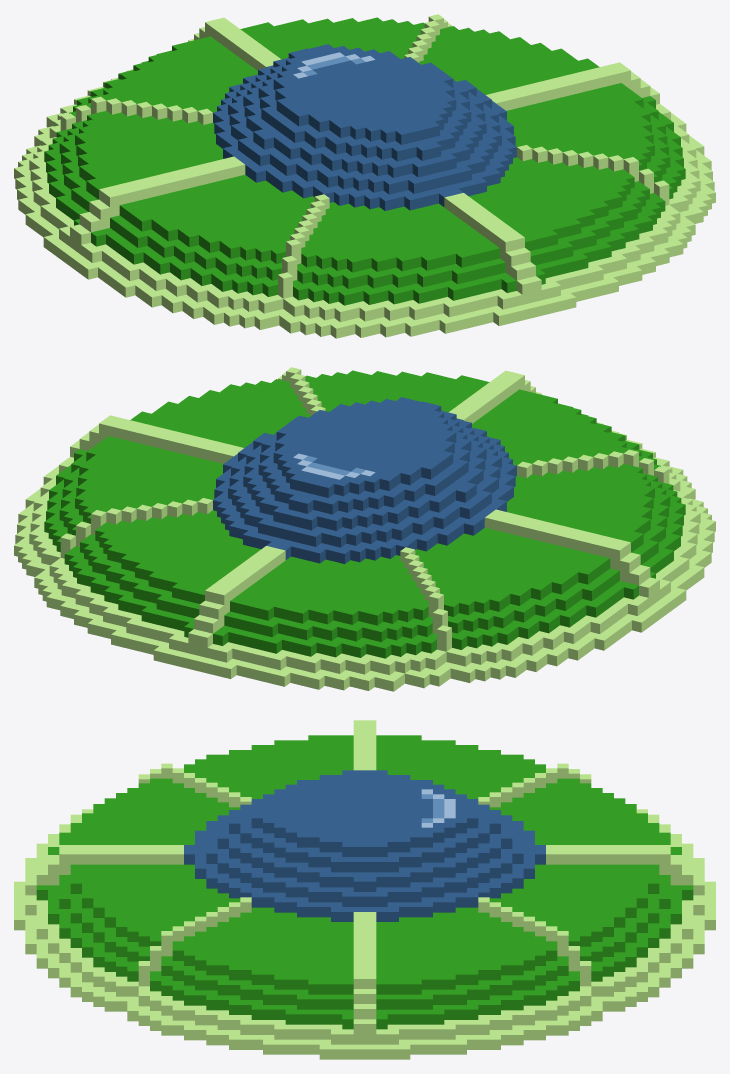
The model's file is Oculus.fbx.
The picture shows the model from 3 angles, top to bottom: view 1: azimuth 30°, elevation 25°; view 2: azimuth 150°, elevation 25°; view 3: azimuth 270°, elevation 25°; orthographic projection.
Parts seen in each view (by area): view 1: Oculus; view 2: Oculus; view 3: Oculus.
Boxes of the visible parts, x1,y1,x2,y2 form: Oculus: [14, 14, 715, 338]; Oculus: [14, 367, 715, 691]; Oculus: [14, 720, 715, 1059].
Bounding box in the file's own units: 6200 × 1000 × 6200.
